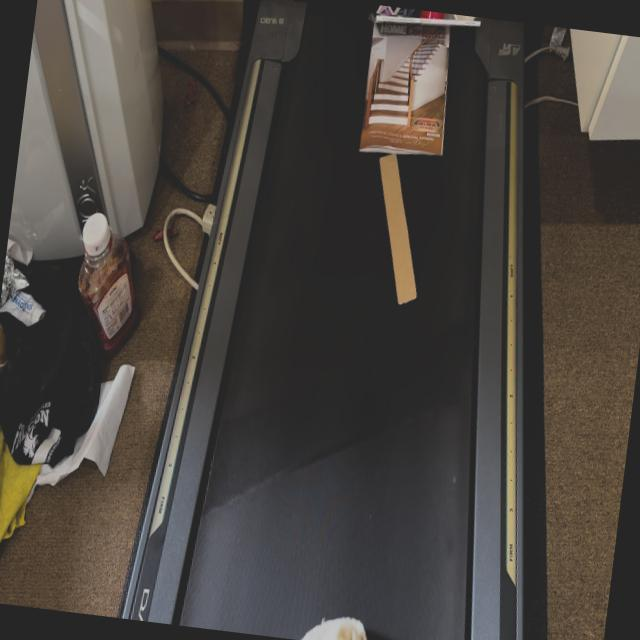Recycle: (354, 4, 470, 155), (362, 154, 434, 309)
